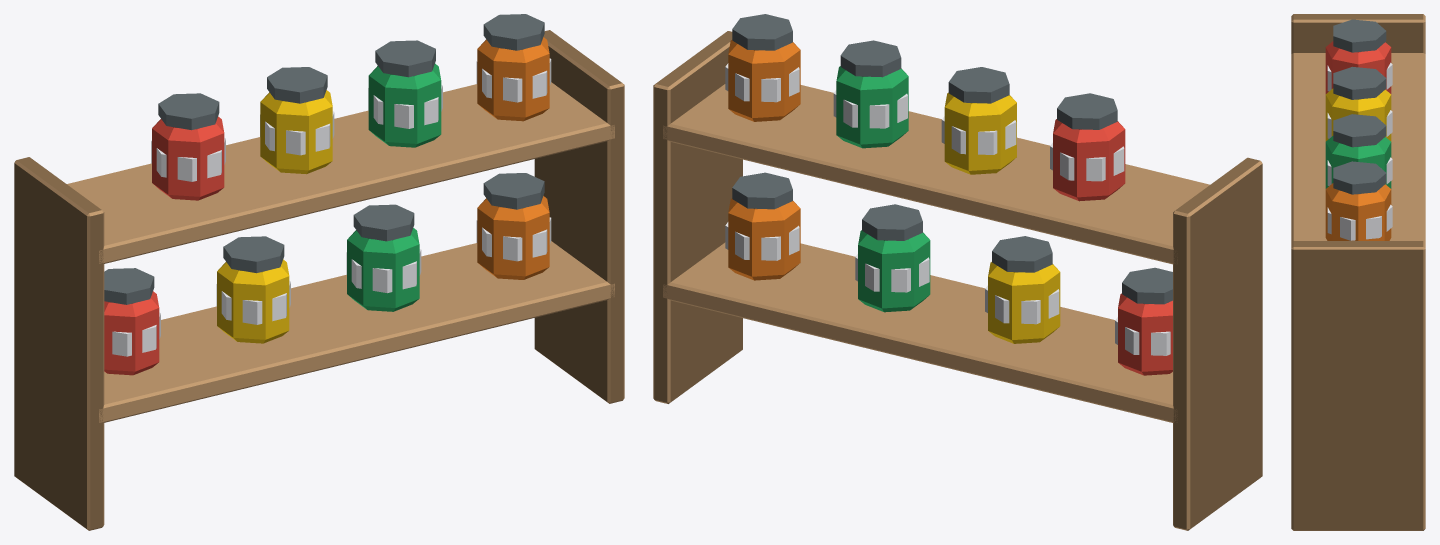
The model's file is jarShelf.glb.
The picture shows the model from 3 angles, left to right: view 1: azimuth 30°, elevation 25°; view 2: azimuth 150°, elevation 25°; view 3: azimuth 270°, elevation 25°; orthographic projection. The views are drawn at different scales.
Visible parts, largest first — view 1: jarShelf-m; view 2: jarShelf-m; view 3: jarShelf-m.
Part boxes in pixels (x1,y1,x2,y2): jarShelf-m: (14, 14, 624, 530); jarShelf-m: (653, 14, 1262, 530); jarShelf-m: (1291, 14, 1425, 530).
Bounding box in the file's own units: 2.48 × 1.61 × 0.6.
